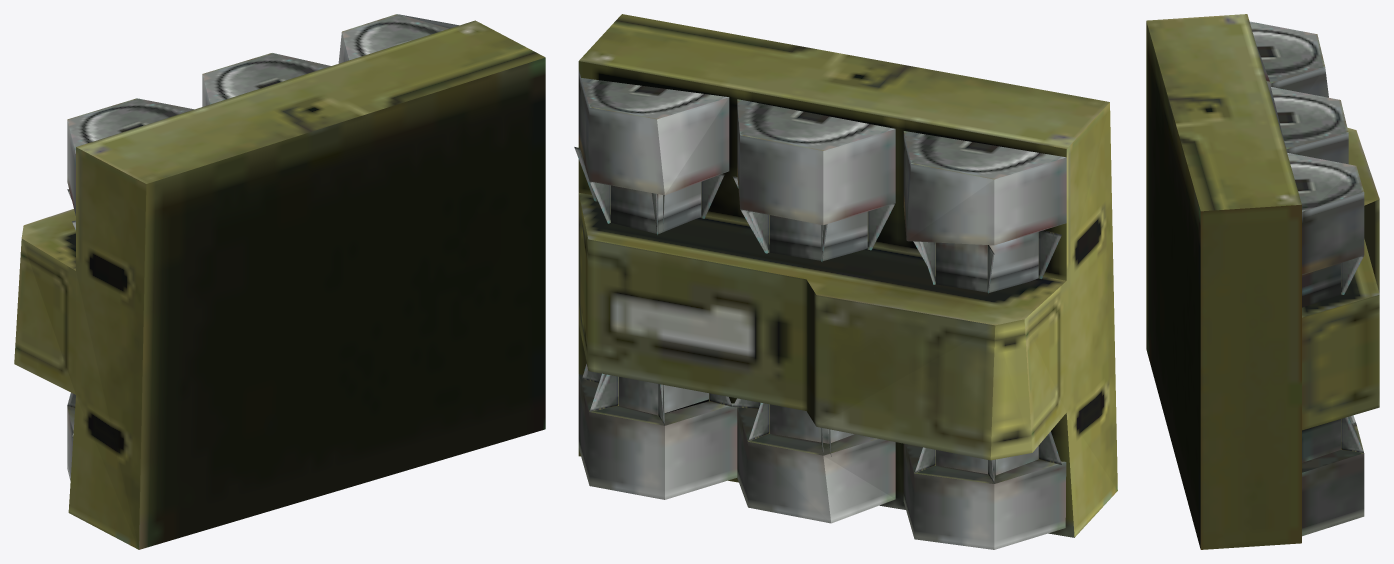
The model's file is WAARMBPACK.obj.
3 renders of one model, left to right at view 1: azimuth 30°, elevation 25°; view 2: azimuth 150°, elevation 25°; view 3: azimuth 270°, elevation 25°, orthographic. The views are drawn at different scales.
Parts seen in each view (by area): view 1: Node 0; view 2: Node 0; view 3: Node 0.
Part boxes in pixels (box(x1,y1,x2,y2)): Node 0: box(14, 14, 545, 549); Node 0: box(574, 14, 1117, 549); Node 0: box(1146, 14, 1379, 549).
Bounding box in the file's own units: 0.62 × 0.48 × 0.3.
Materials: 1 (1 with a texture image).
